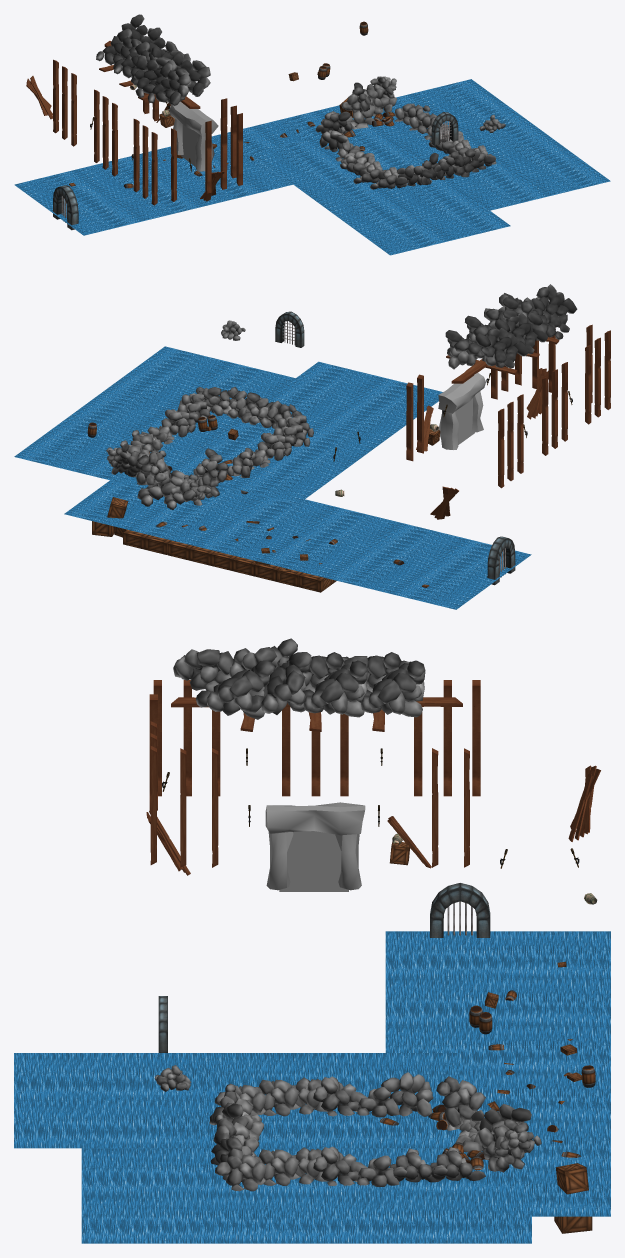
File: ForthInstance_Level01_Props.FBX
3 views of the same model, one above another, from view 1: azimuth 30°, elevation 25°; view 2: azimuth 150°, elevation 25°; view 3: azimuth 270°, elevation 25° (orthographic). The views are drawn at different scales.
Visible parts, largest first — view 1: Water_Surface_Still, StonePile, Wooden_Broken_Plate, Frame Door, Drain_Vertical_Bars, Barrel, Drain_Grating, Ortoedric_Half_Door, Box; view 2: Water_Surface_Still, StonePile, Wooden_Broken_Plate, Box, Frame Door, Drain_Vertical_Bars, Drain_Grating, Barrel, Ortoedric_Half_Door; view 3: Water_Surface_Still, StonePile, Wooden_Broken_Plate, Frame Door, Ortoedric_Half_Door, Box, Drain_Vertical_Bars, Barrel.
Part boxes in pixels (<box>): Water_Surface_Still: <box>14,79,610,255</box>; StonePile: <box>96,14,505,189</box>; Wooden_Broken_Plate: <box>26,41,242,205</box>; Frame Door: <box>169,102,218,171</box>; Drain_Vertical_Bars: <box>53,185,78,230</box>; Barrel: <box>123,21,395,188</box>; Drain_Grating: <box>431,112,458,145</box>; Ortoedric_Half_Door: <box>180,125,198,166</box>; Box: <box>69,71,353,186</box>; Water_Surface_Still: <box>14,346,531,609</box>; StonePile: <box>106,284,577,509</box>; Wooden_Broken_Plate: <box>406,324,610,519</box>; Box: <box>92,426,440,592</box>; Frame Door: <box>438,372,485,449</box>; Drain_Vertical_Bars: <box>487,536,515,585</box>; Drain_Grating: <box>275,311,304,347</box>; Barrel: <box>87,415,404,565</box>; Ortoedric_Half_Door: <box>455,398,474,444</box>; Water_Surface_Still: <box>14,931,610,1243</box>; StonePile: <box>155,638,541,1191</box>; Wooden_Broken_Plate: <box>146,680,600,875</box>; Frame Door: <box>265,802,365,890</box>; Ortoedric_Half_Door: <box>279,831,348,891</box>; Box: <box>389,841,592,1233</box>; Drain_Vertical_Bars: <box>430,883,490,937</box>; Barrel: <box>379,990,595,1170</box>.
Size of the model in its own units: 35.94 by 17.48 by 26.5.
10 materials, 8 textured.
